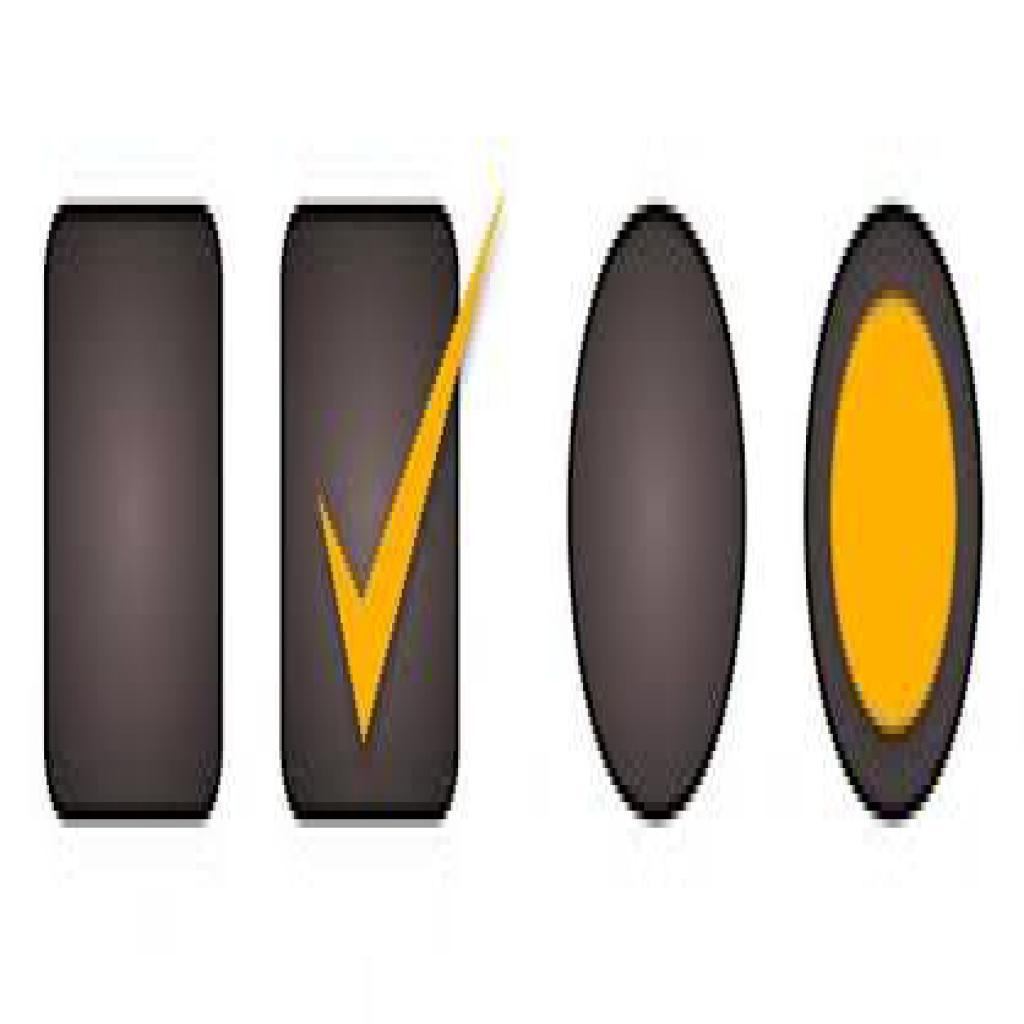checkbox: (47, 209, 221, 815), (286, 216, 452, 818)
radio: (568, 193, 748, 838), (802, 198, 984, 833)
